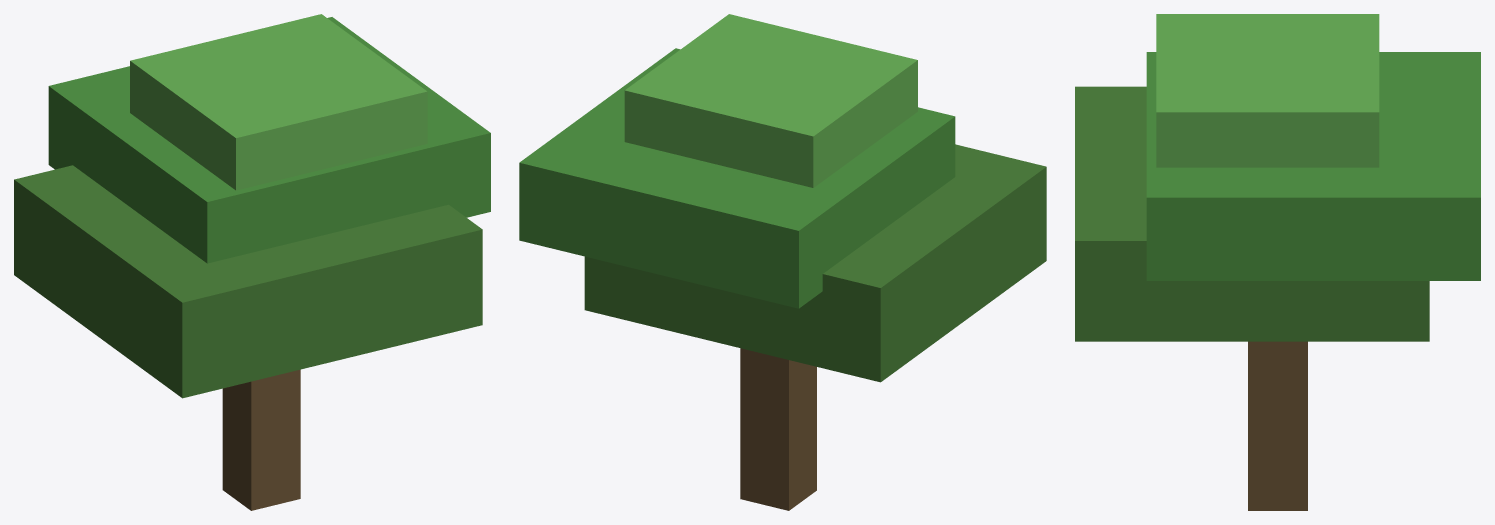
Rendered from tree_clump_1.glb.
3 views of the same model, side by side, from view 1: azimuth 30°, elevation 25°; view 2: azimuth 150°, elevation 25°; view 3: azimuth 270°, elevation 25° (orthographic). The views are drawn at different scales.
Visible parts, largest first — view 1: body; view 2: body; view 3: body.
Part boxes in pixels (x1,y1,x2,y2): body: [14, 14, 490, 510]; body: [519, 14, 1046, 510]; body: [1075, 14, 1480, 510].
Bounding box in the file's own units: 4.72 × 5.52 × 4.6.
